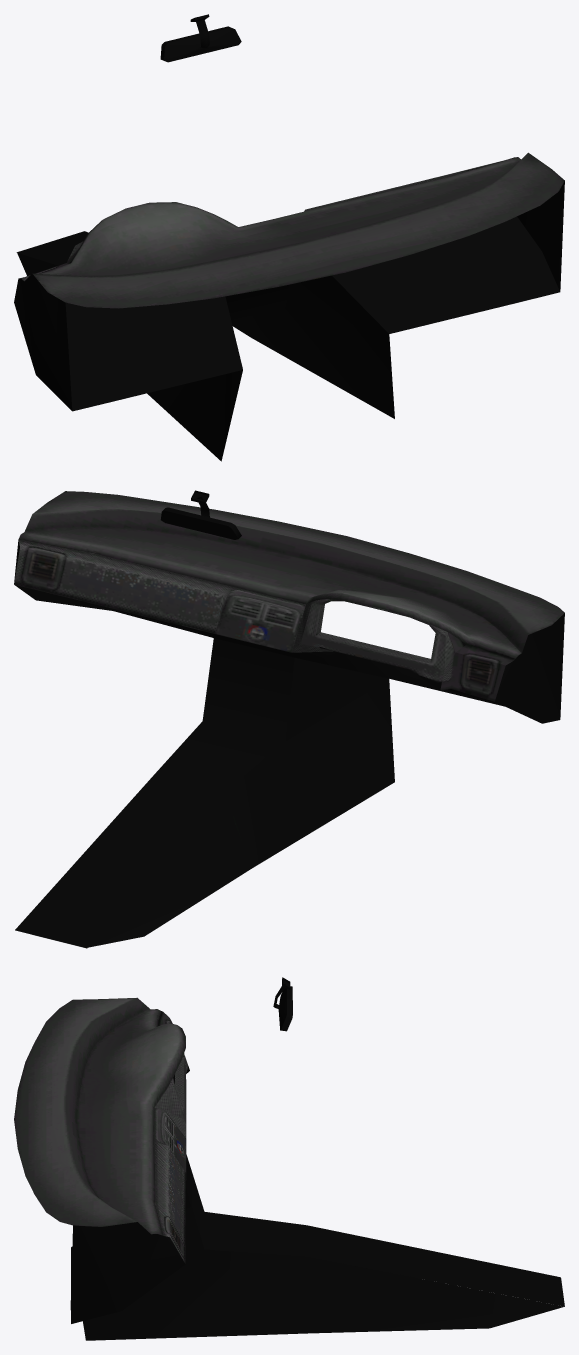
Rendered from dashboard.obj.
3 renders of one model, top to bottom at view 1: azimuth 30°, elevation 25°; view 2: azimuth 150°, elevation 25°; view 3: azimuth 270°, elevation 25°, orthographic. The views are drawn at different scales.
Parts seen in each view (by area): view 1: Dashboard1; view 2: Dashboard1; view 3: Dashboard1.
Part boxes in pixels (x1,y1,x2,y2): Dashboard1: [14, 14, 564, 461]; Dashboard1: [14, 490, 564, 948]; Dashboard1: [14, 977, 564, 1340].
Bounding box in the file's own units: 5.72 × 3.77 × 5.82.
1 material, 1 textured.
